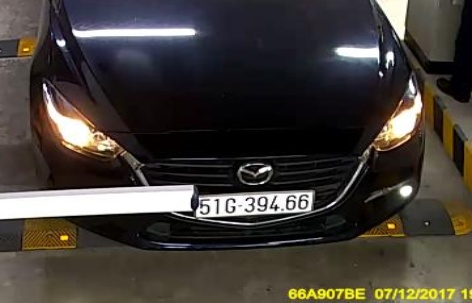plate: (195, 183, 316, 223)
